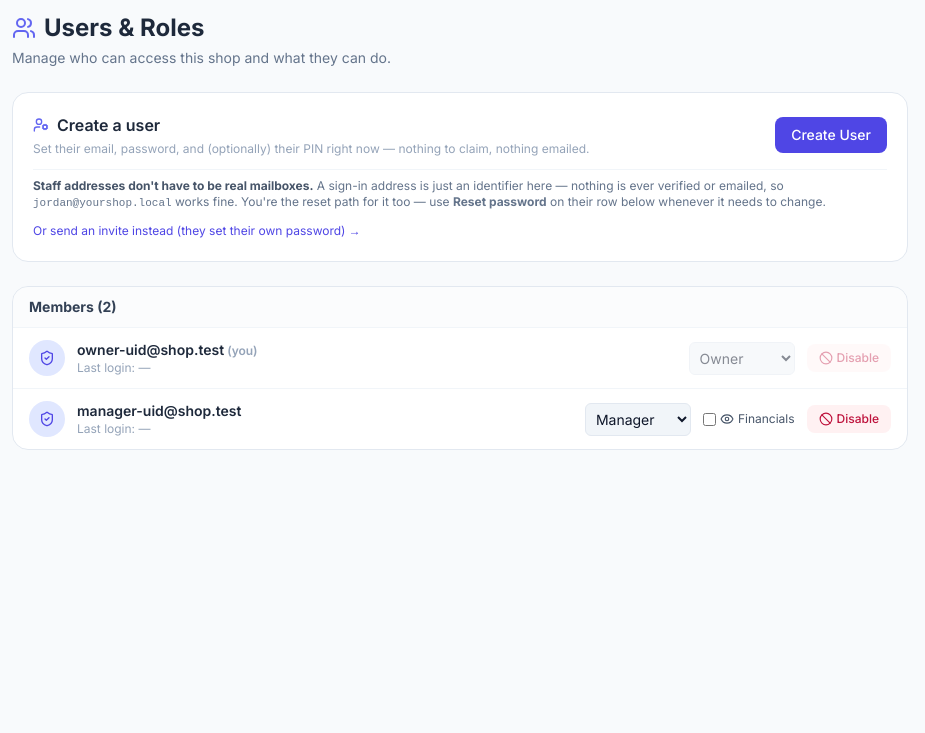
it: Create a user — panel visibility › the "Or send an invite instead" link reveals the invite panel alongside it
expect the text "Send Invite" is not shown: met
Click the button "Or send an invite instead (they set their own password) →". click: (197, 231)
box: [33, 223, 361, 239]
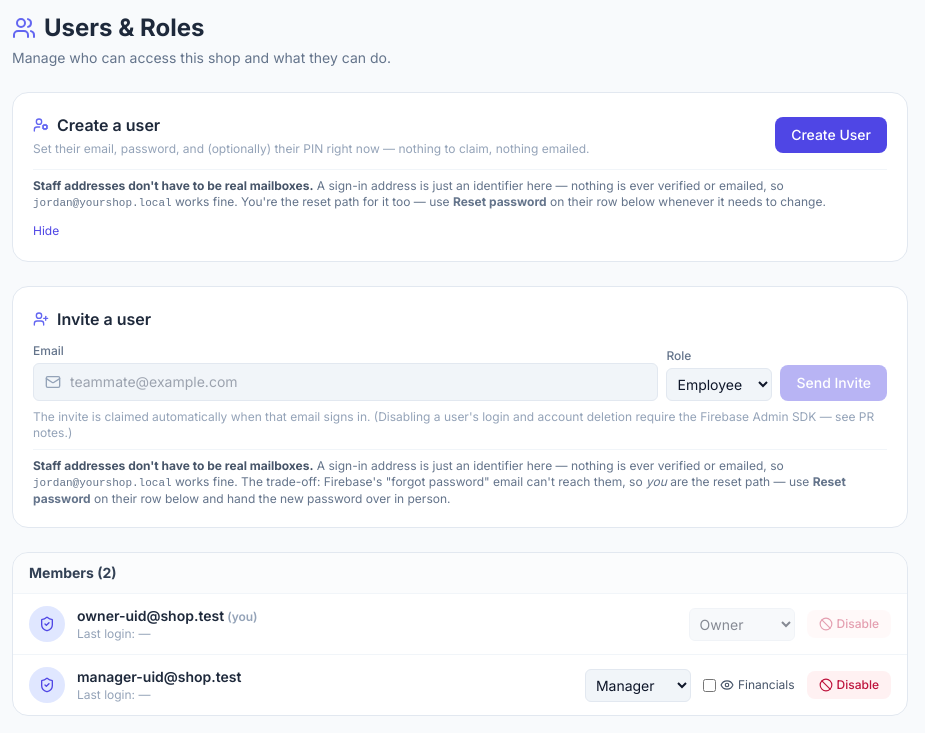
expect the text "Send Invite" is shown: met, box [780, 365, 887, 401]
